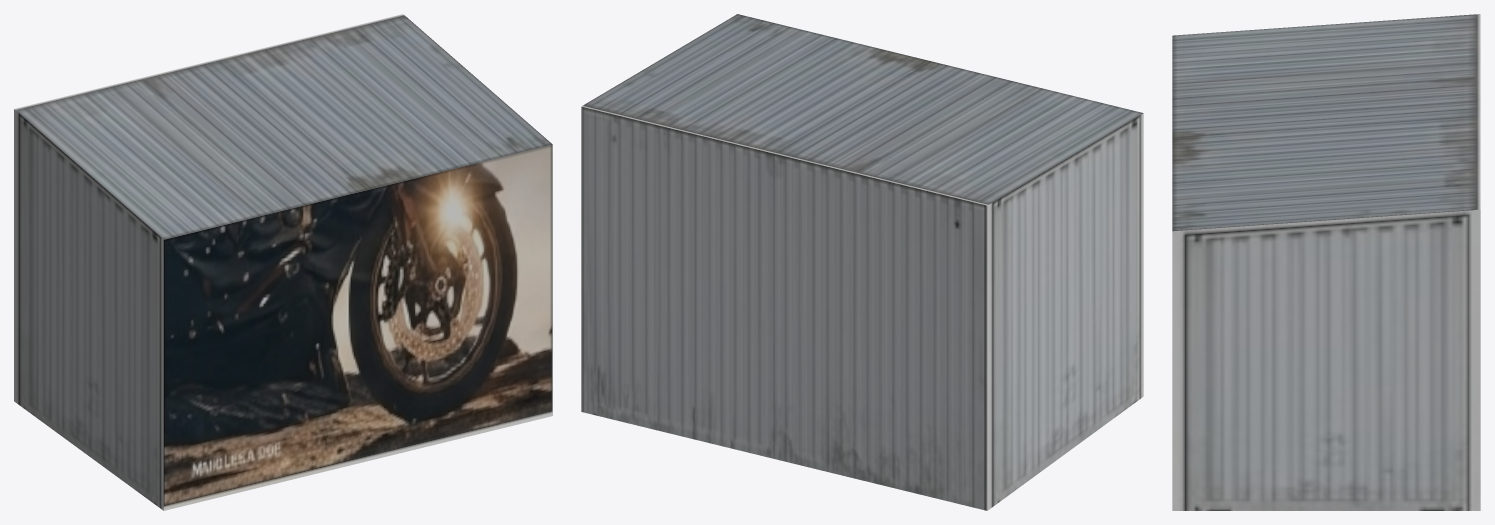
The model's file is Trio.fbx.
3 views of the same model, side by side, from view 1: azimuth 30°, elevation 25°; view 2: azimuth 150°, elevation 25°; view 3: azimuth 270°, elevation 25° (orthographic). The views are drawn at different scales.
Parts seen in each view (by area): view 1: Cube; view 2: Cube; view 3: Cube.
Boxes of the visible parts, x1,y1,x2,y2 form: Cube: [14, 14, 552, 510]; Cube: [581, 14, 1143, 510]; Cube: [1172, 14, 1480, 510].
Size of the model in its own units: 600 by 431 by 400.
1 material, 1 textured.
